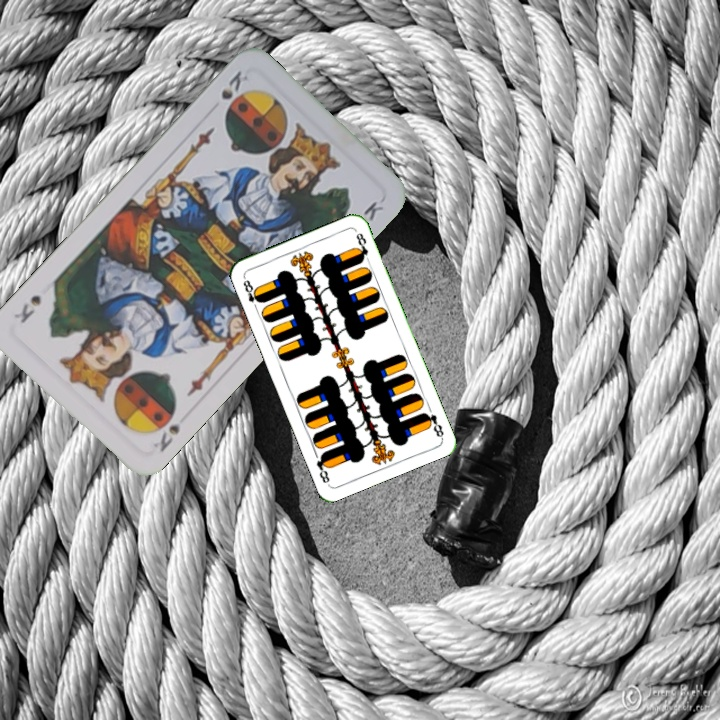E8: (239, 276, 265, 312), (419, 408, 446, 441)
SK: (148, 408, 192, 455), (217, 66, 251, 103)
